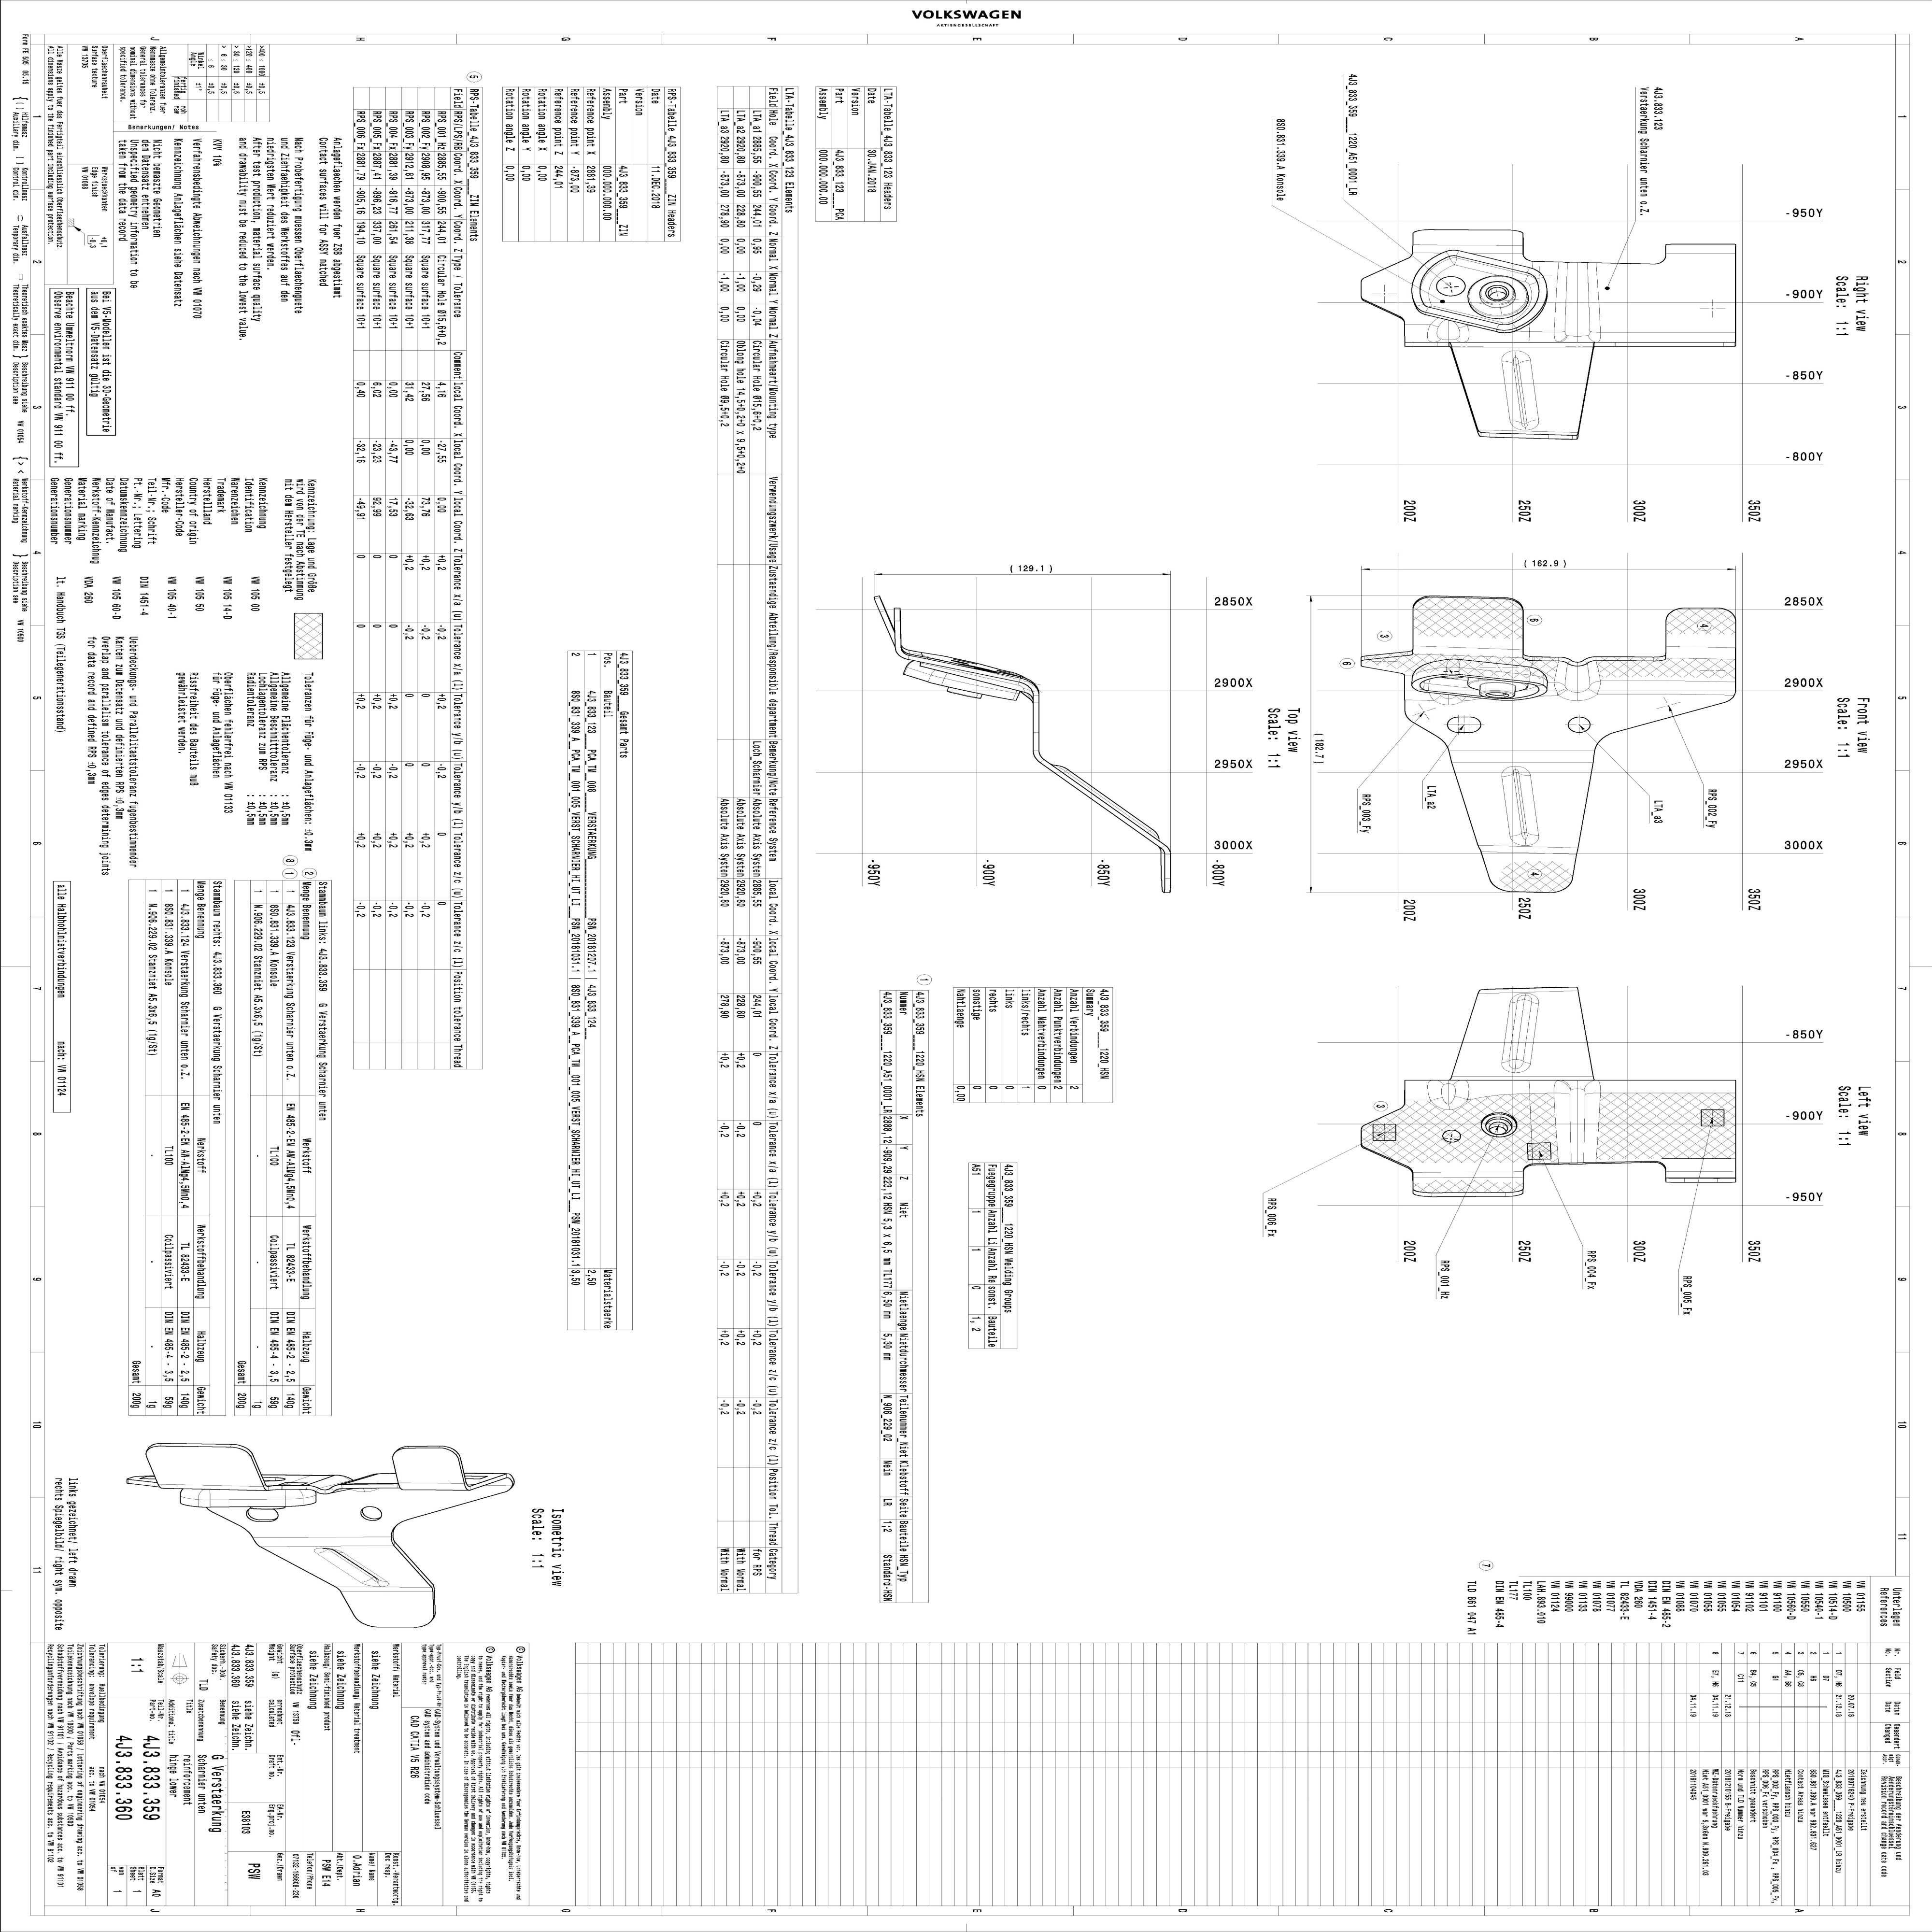Embossment: (1488, 759, 1551, 851), (313, 1536, 391, 1602), (1493, 988, 1546, 1077), (1554, 262, 1606, 343), (1498, 347, 1543, 434), (1553, 1080, 1598, 1163)
InnerContour: (1445, 710, 1483, 737), (244, 1509, 281, 1525), (1564, 716, 1594, 733), (1438, 1127, 1461, 1148), (360, 1504, 383, 1525)
Reinforcement: (1553, 658, 1602, 704), (1425, 314, 1474, 348), (1424, 1080, 1473, 1113)
ThroughHole: (1482, 1113, 1518, 1138)
